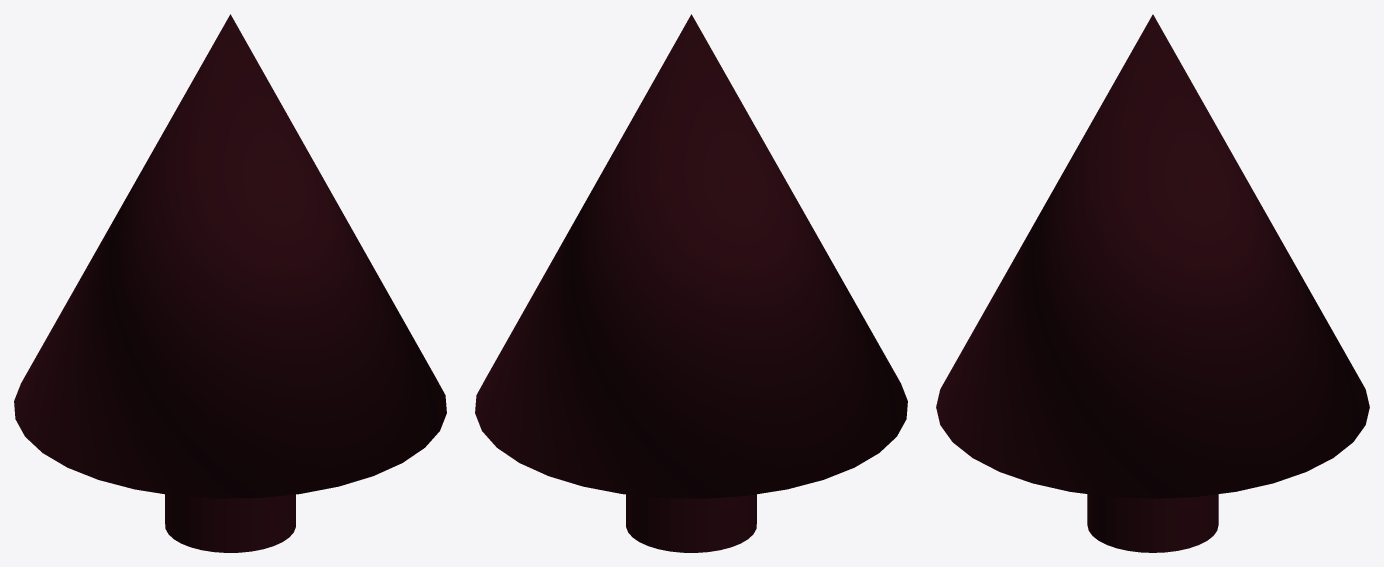
3 renders of one model, left to right at view 1: azimuth 30°, elevation 25°; view 2: azimuth 150°, elevation 25°; view 3: azimuth 270°, elevation 25°, orthographic.
Visible parts, largest first — view 1: RedTree; view 2: RedTree; view 3: RedTree.
Boxes of the visible parts, x1,y1,x2,y2 form: RedTree: (14,14,446,552); RedTree: (475,14,907,552); RedTree: (936,14,1369,552).
Size of the model in its own units: 2 by 2.6 by 2.
